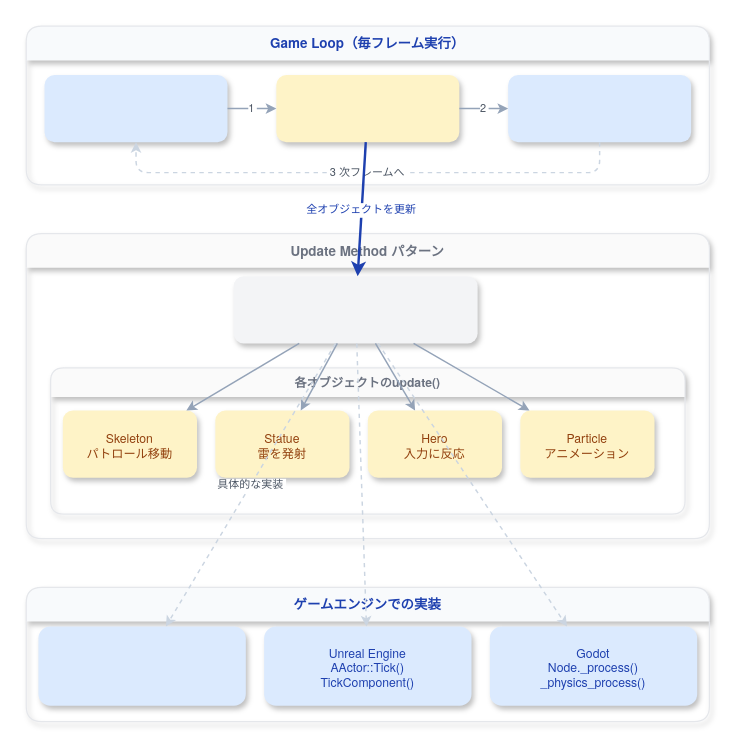
The diagram is 738 pixels wide and 752 high, and some of its shapes have lost their labels. The centre of each missing label's shape, as x and y in pixels:
"entities[] コレクション for (entity : entities) entity.update(dt)" belongs at (x=356, y=311).
"processInput() ユーザー入力処理" belongs at (x=136, y=110).
"render() 描画" belongs at (x=600, y=110).
"Unity MonoBehaviour.Update() FixedUpdate() / LateUpdate()" belongs at (x=143, y=667).
"update(deltaTime) ゲーム状態更新" belongs at (x=368, y=110).
